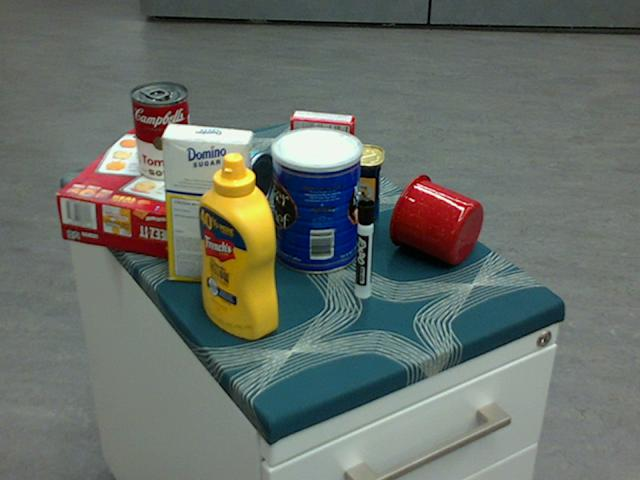cracker_box: (55, 123, 247, 263)
gelatin_box: (290, 110, 355, 169)
large_marker: (356, 197, 373, 299)
master_chef_can: (270, 126, 361, 274)
mug: (388, 173, 483, 264)
mustard_bottle: (199, 152, 277, 339)
potted_meat_can: (301, 142, 383, 219)
sugar_box: (160, 123, 251, 285)
tomato_soup_can: (130, 82, 192, 181)
tuna_fish_can: (217, 144, 272, 214)
